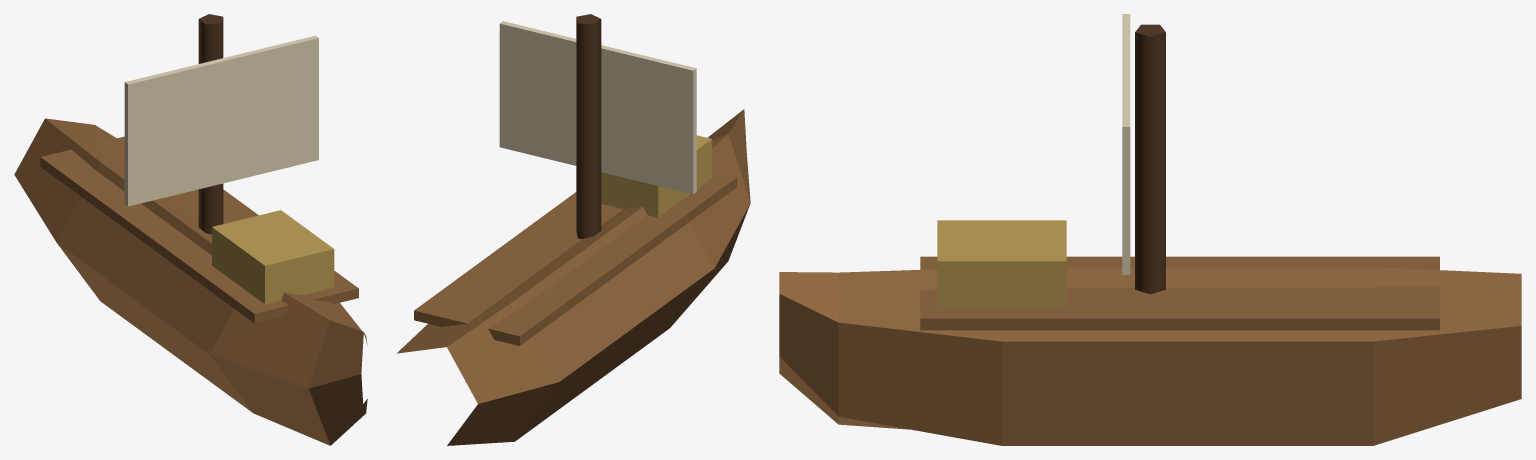
File: veh_naval_fishing_a01_lod1.glb
The picture shows the model from 3 angles, left to right: view 1: azimuth 30°, elevation 25°; view 2: azimuth 150°, elevation 25°; view 3: azimuth 270°, elevation 25°; orthographic projection. The views are drawn at different scales.
Visible parts, largest first — view 1: body, sail_0; view 2: body, sail_0; view 3: body, sail_0.
Part boxes in pixels (left/top/right/bottom): body: left=14, top=14, right=367, bottom=445; sail_0: left=124, top=35, right=318, bottom=206; body: left=397, top=14, right=750, bottom=445; sail_0: left=499, top=21, right=696, bottom=194; body: left=779, top=24, right=1521, bottom=445; sail_0: left=1122, top=14, right=1130, bottom=274.
Bounding box in the file's own units: 1.66 × 2.85 × 4.6.
